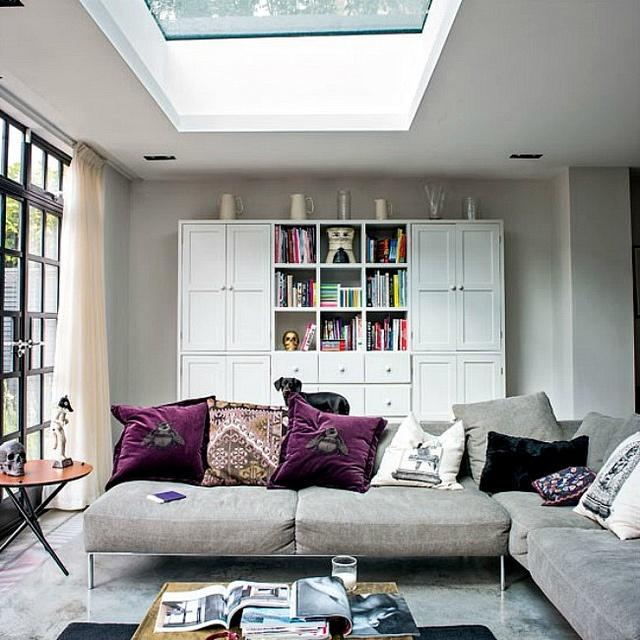Lemari: (176, 218, 505, 421)
